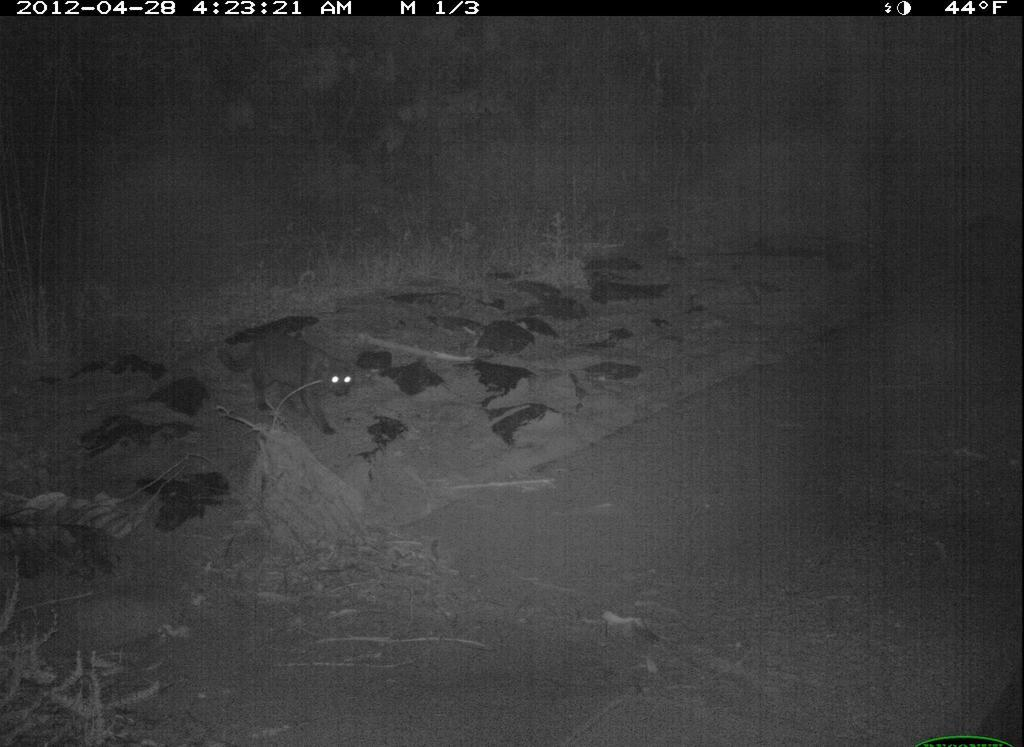cat: (207, 320, 361, 443)
